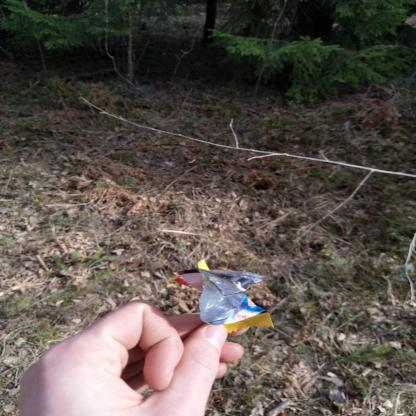plastik: (170, 258, 276, 336)
